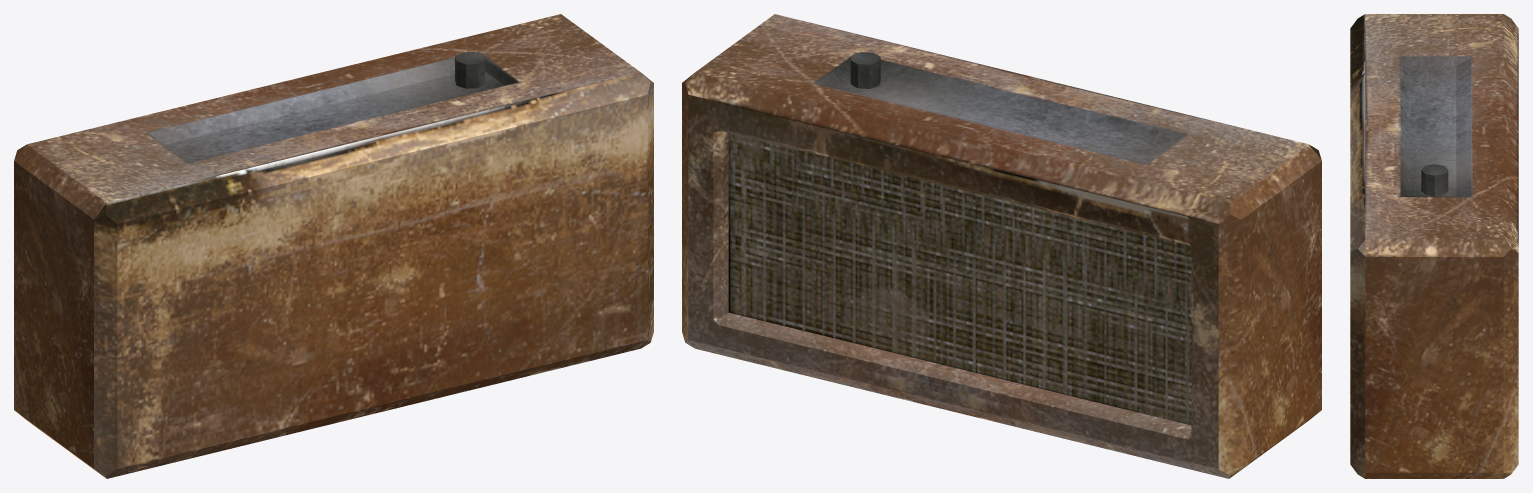
The model's file is Radio.fbx.
3 renders of one model, left to right at view 1: azimuth 30°, elevation 25°; view 2: azimuth 150°, elevation 25°; view 3: azimuth 270°, elevation 25°, orthographic. The views are drawn at different scales.
Visible parts, largest first — view 1: Speaker; view 2: Speaker; view 3: Speaker.
Part boxes in pixels (x1,y1,x2,y2): Speaker: (14, 14, 653, 478); Speaker: (682, 14, 1321, 478); Speaker: (1350, 14, 1518, 478).
Bounding box in the file's own units: 667 × 333 × 200.
